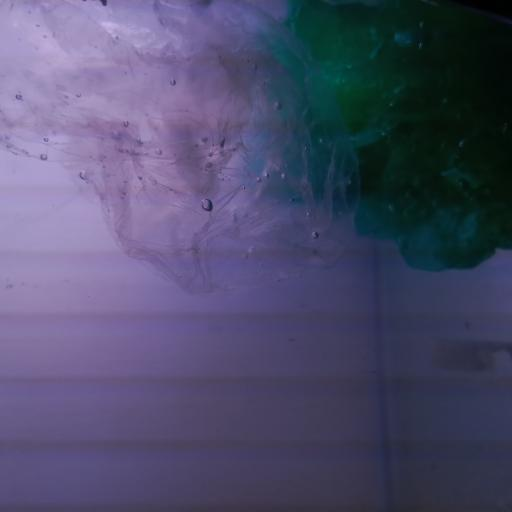plastic_bag: (0, 0, 359, 298), (251, 0, 512, 274)
